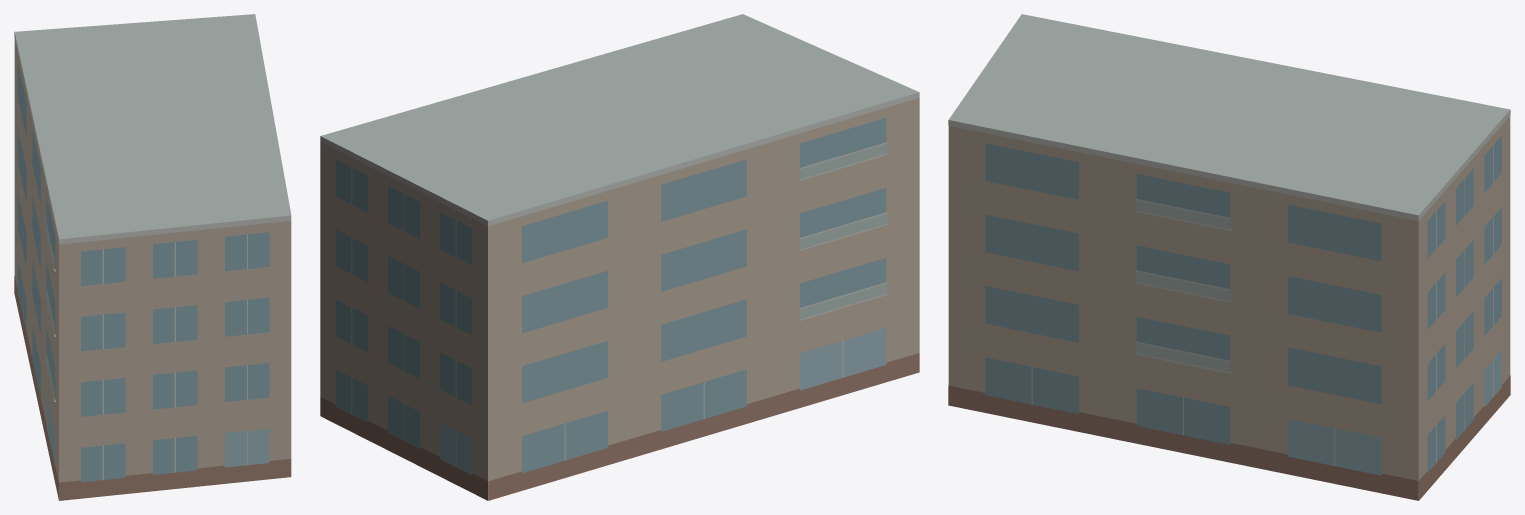
File: residential-4aefddeb-b92d-4d2f-bf10-cdf0097c5d13.glb
The picture shows the model from 3 angles, left to right: view 1: azimuth 30°, elevation 25°; view 2: azimuth 150°, elevation 25°; view 3: azimuth 270°, elevation 25°; orthographic projection. The views are drawn at different scales.
Parts seen in each view (by area): view 1: residential-4aefddeb-b92d-4d2f-bf10-cdf0097c5d13.tmp; view 2: residential-4aefddeb-b92d-4d2f-bf10-cdf0097c5d13.tmp; view 3: residential-4aefddeb-b92d-4d2f-bf10-cdf0097c5d13.tmp.
Boxes of the visible parts, box(x1,y1,x2,y2) form: residential-4aefddeb-b92d-4d2f-bf10-cdf0097c5d13.tmp: box(14, 14, 291, 500); residential-4aefddeb-b92d-4d2f-bf10-cdf0097c5d13.tmp: box(320, 14, 919, 500); residential-4aefddeb-b92d-4d2f-bf10-cdf0097c5d13.tmp: box(948, 14, 1510, 500).
Size of the model in its own units: 18.46 by 12.2 by 21.77.
